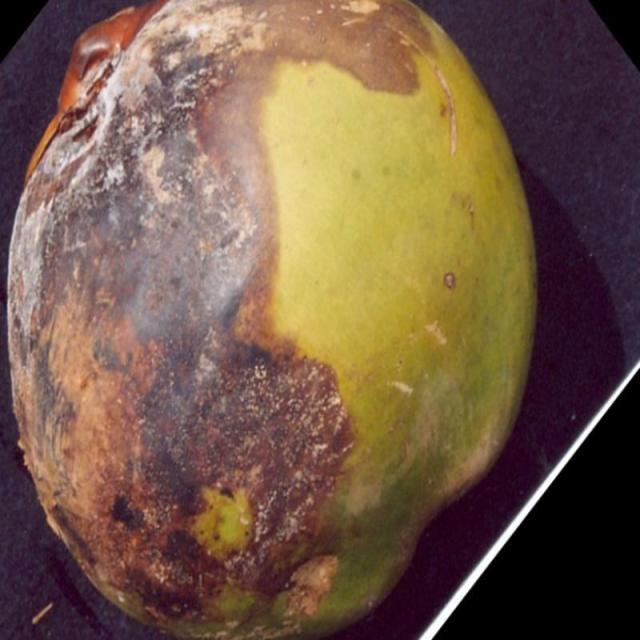damaged: (4, 0, 541, 639)
